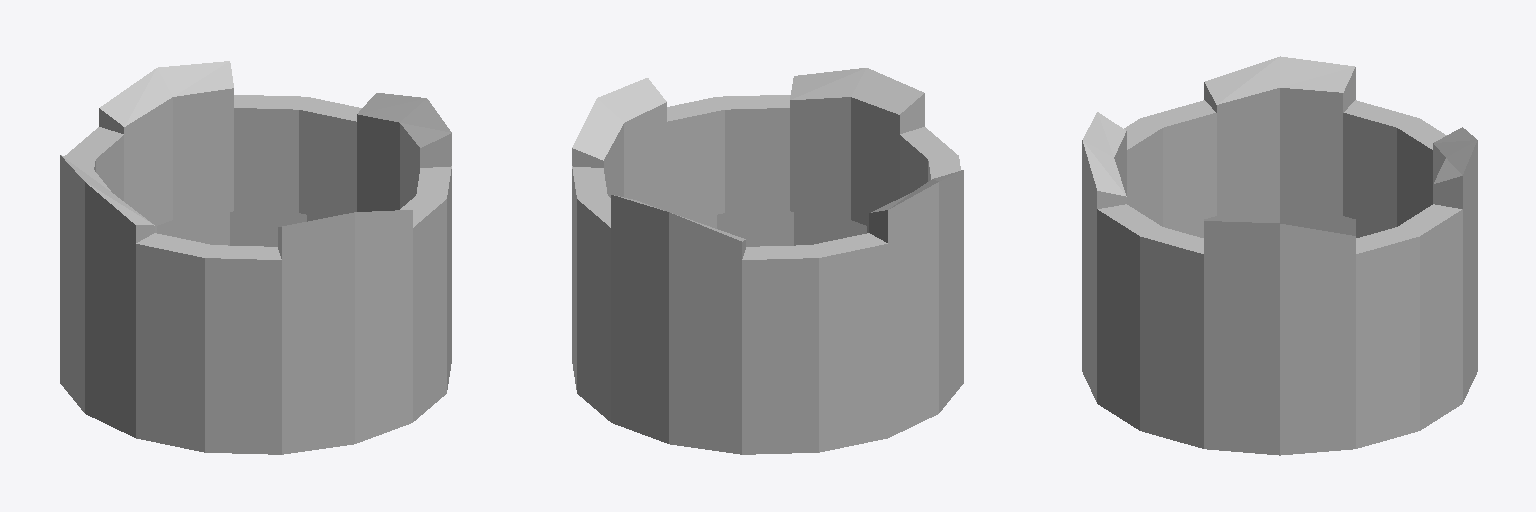
The model's file is drill_blade2.obj.
3 renders of one model, left to right at view 1: azimuth 30°, elevation 25°; view 2: azimuth 150°, elevation 25°; view 3: azimuth 270°, elevation 25°, orthographic.
Parts seen in each view (by area): view 1: Cylinder.009_Cylinder.011; view 2: Cylinder.009_Cylinder.011; view 3: Cylinder.009_Cylinder.011.
Part boxes in pixels (bbox=[...]): Cylinder.009_Cylinder.011: bbox=[60, 61, 451, 454]; Cylinder.009_Cylinder.011: bbox=[572, 68, 963, 454]; Cylinder.009_Cylinder.011: bbox=[1082, 56, 1477, 455].
Size of the model in its own units: 3.31 by 2.14 by 3.31.